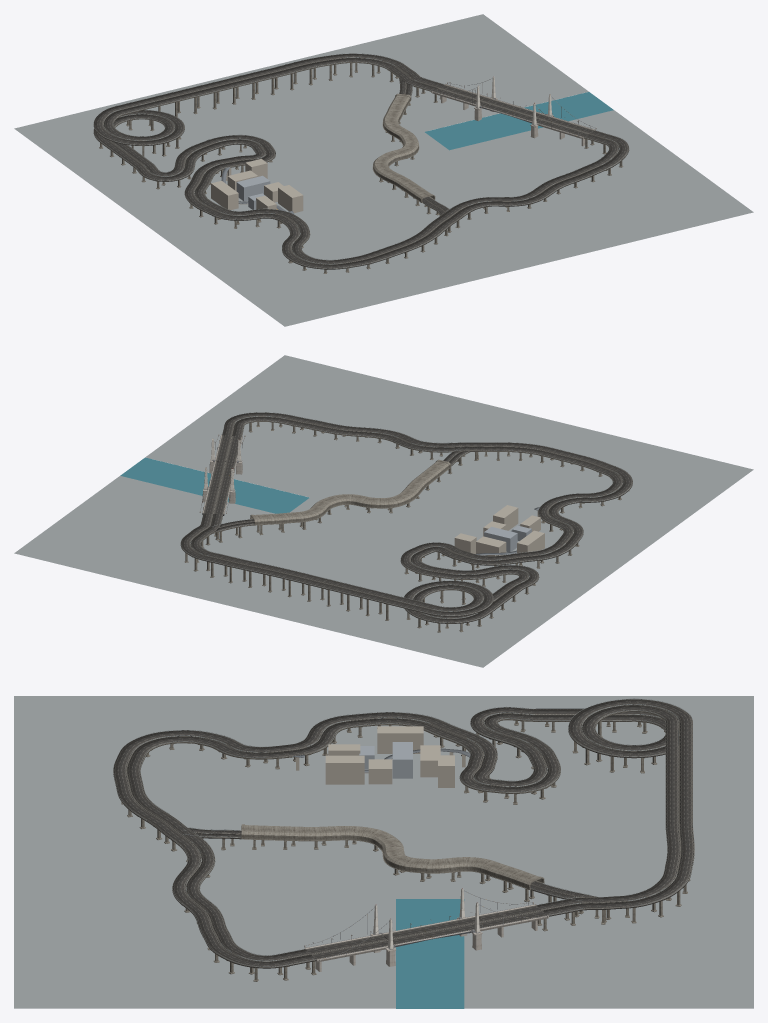
Rendered from tokyo-highway.glb.
3 renders of one model, top to bottom at view 1: azimuth 30°, elevation 25°; view 2: azimuth 150°, elevation 25°; view 3: azimuth 270°, elevation 25°, orthographic. The views are drawn at different scales.
Parts seen in each view (by area): view 1: VIS_SM_TE_Area_875m, VIS_HW_TE_Principal, VIS_SM_TE_Agua_Quad, VIS_HW_TE_Tunel, VIS_TE_SM_Drawbridge_Approach_E, VIS_TE_SM_Drawbridge_Approach_W, VIS_SM_TE02_Bloque_06_Borde_S_Oeste, VIS_SM_TE02_Bloque_02_Recepcion_Este, VIS_SM_TE02_Bloque_05_Esquina_S_Frente; view 2: VIS_SM_TE_Area_875m, VIS_HW_TE_Principal, VIS_HW_TE_Tunel, VIS_SM_TE_Agua_Quad, VIS_TE_SM_Drawbridge_Approach_W, VIS_TE_SM_Drawbridge_Approach_E; view 3: VIS_SM_TE_Area_875m, VIS_HW_TE_Principal, VIS_HW_TE_Tunel, VIS_SM_TE_Agua_Quad, VIS_TE_SM_Drawbridge_Approach_E, VIS_TE_SM_Drawbridge_Approach_W, VIS_SM_TE02_Bloque_02_Recepcion_Este, VIS_SM_TE02_Bloque_06_Borde_S_Oeste, VIS_SM_TE02_Bloque_05_Esquina_S_Frente, VIS_TE_SM_Drawbridge_Piers, VIS_TE_SM_Drawbridge_Leaf_W, VIS_SM_TE02_Bloque_03_Entrada_Estrecha (+4 smaller).
Boxes of the visible parts, left/top/right/bottom form: VIS_SM_TE_Area_875m: left=14, top=14, right=753, bottom=326; VIS_HW_TE_Principal: left=93, top=53, right=629, bottom=273; VIS_SM_TE_Agua_Quad: left=425, top=92, right=613, bottom=150; VIS_HW_TE_Tunel: left=372, top=77, right=453, bottom=232; VIS_TE_SM_Drawbridge_Approach_E: left=536, top=115, right=595, bottom=139; VIS_TE_SM_Drawbridge_Approach_W: left=432, top=84, right=494, bottom=108; VIS_SM_TE02_Bloque_06_Borde_S_Oeste: left=211, top=180, right=238, bottom=210; VIS_SM_TE02_Bloque_02_Recepcion_Este: left=278, top=185, right=303, bottom=213; VIS_SM_TE02_Bloque_05_Esquina_S_Frente: left=236, top=175, right=270, bottom=201; VIS_SM_TE_Area_875m: left=14, top=355, right=753, bottom=667; VIS_HW_TE_Principal: left=180, top=412, right=632, bottom=632; VIS_HW_TE_Tunel: left=201, top=447, right=478, bottom=547; VIS_SM_TE_Agua_Quad: left=120, top=457, right=309, bottom=513; VIS_TE_SM_Drawbridge_Approach_W: left=202, top=487, right=229, bottom=515; VIS_TE_SM_Drawbridge_Approach_E: left=215, top=435, right=242, bottom=462; VIS_SM_TE_Area_875m: left=14, top=696, right=753, bottom=1008; VIS_HW_TE_Principal: left=113, top=698, right=694, bottom=981; VIS_HW_TE_Tunel: left=164, top=824, right=611, bottom=922; VIS_SM_TE_Agua_Quad: left=396, top=899, right=464, bottom=1008; VIS_TE_SM_Drawbridge_Approach_E: left=305, top=933, right=388, bottom=962; VIS_TE_SM_Drawbridge_Approach_W: left=459, top=904, right=548, bottom=932; VIS_SM_TE02_Bloque_02_Recepcion_Este: left=325, top=755, right=364, bottom=784; VIS_SM_TE02_Bloque_06_Borde_S_Oeste: left=377, top=726, right=423, bottom=753; VIS_SM_TE02_Bloque_05_Esquina_S_Frente: left=392, top=742, right=412, bottom=778; VIS_TE_SM_Drawbridge_Piers: left=315, top=917, right=537, bottom=971; VIS_TE_SM_Drawbridge_Leaf_W: left=420, top=918, right=471, bottom=938; VIS_SM_TE02_Bloque_03_Entrada_Estrecha: left=368, top=759, right=392, bottom=784.
Bounding box in the file's own units: 875 × 66.03 × 875.
11 materials, 5 textured.
